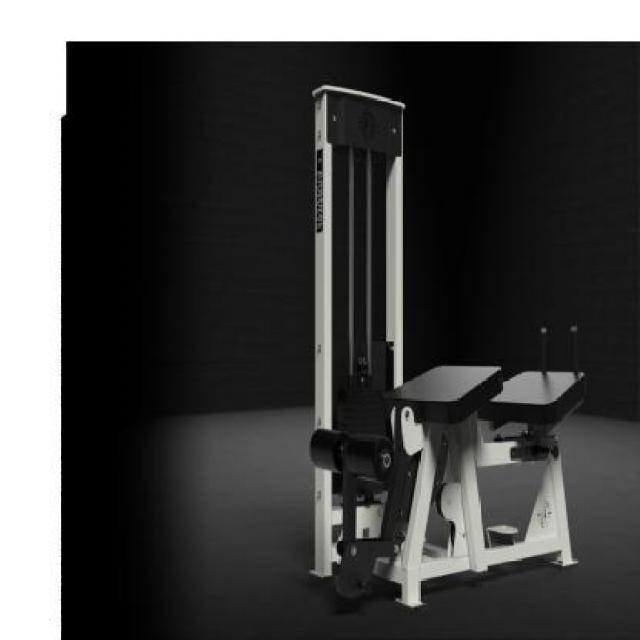reg curl machine: (302, 83, 604, 629)
